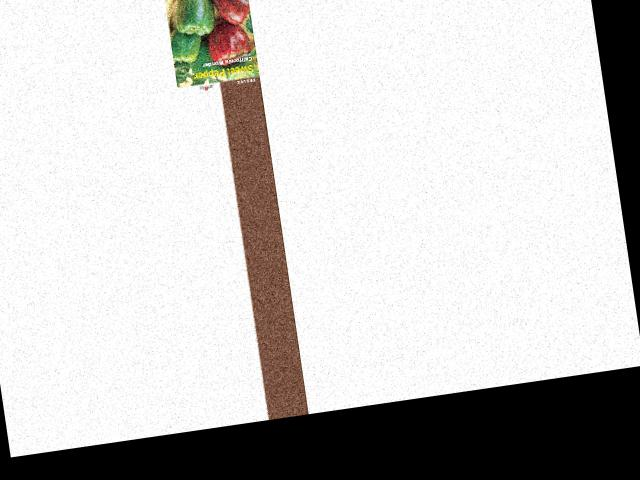bell_pepper: (166, 20, 201, 68)
